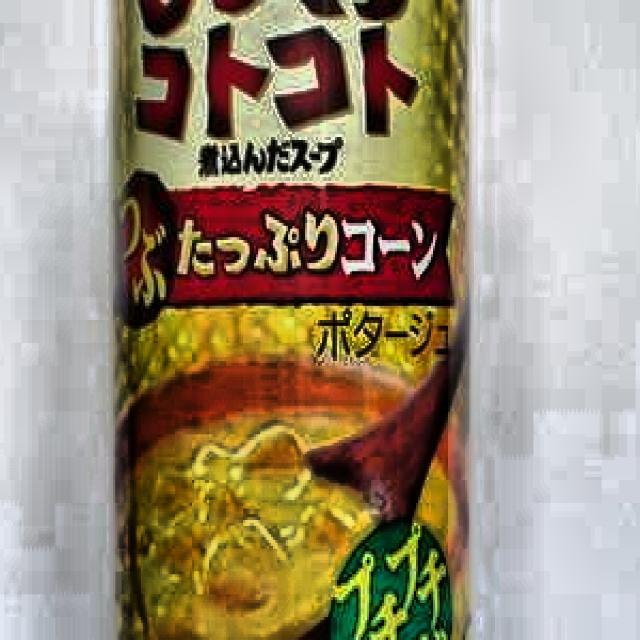metal: (102, 0, 484, 640)
